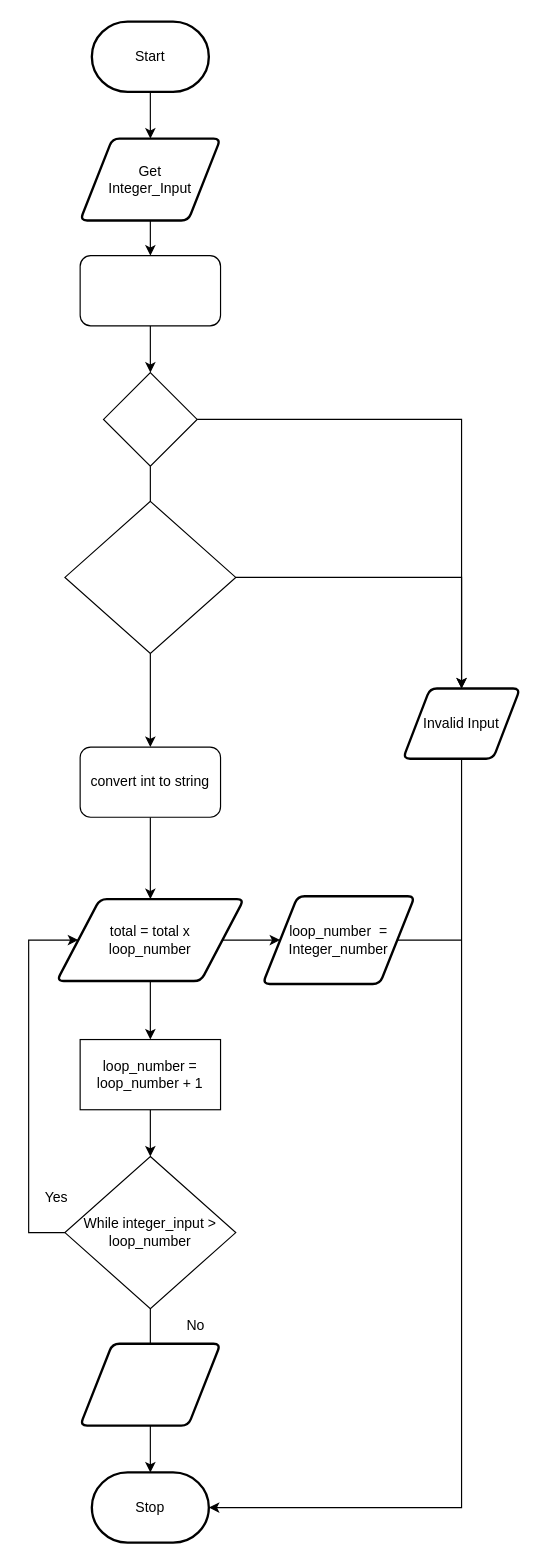
Image size: 542x1563. Some labels were removed from this diagram. The shapes that lost their labels are listed below. From the top down, each one's box as (x1, y1, x2, y2) in pixels, then its label:
(79, 254, 221, 326): set total = 0 loop_number = 0
(102, 371, 197, 466): Try
(64, 500, 236, 653): if (Integer > 0)
(78, 1342, 221, 1426): Show factorial
